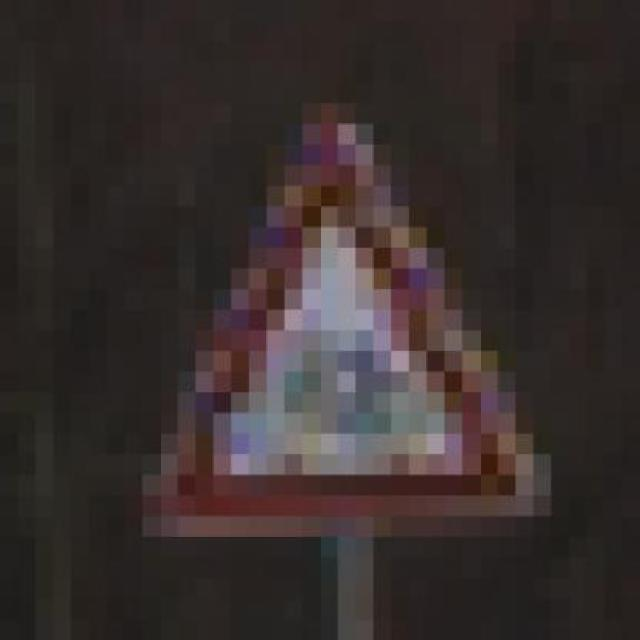CYCLE ROUTE AHEAD WARNING: (89, 82, 569, 558)
